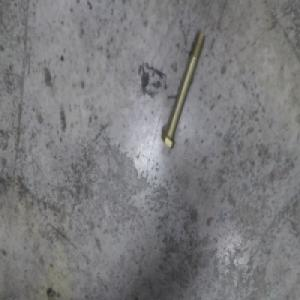Bolt: (159, 30, 204, 150)
